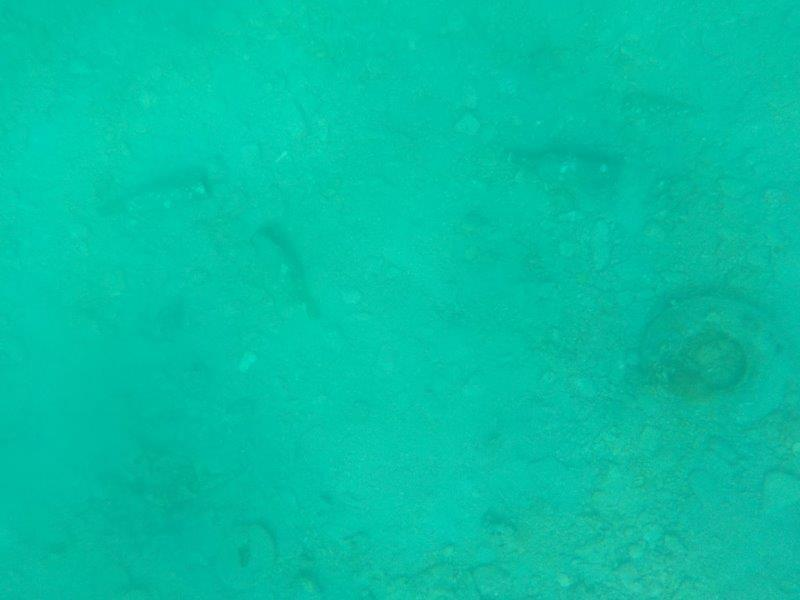bottle: (249, 222, 320, 321), (88, 174, 220, 225), (502, 143, 619, 189)
tire: (636, 292, 797, 435)
